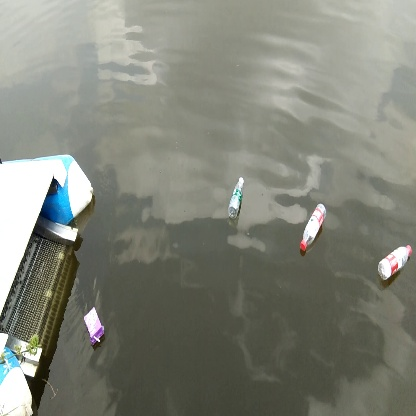bottle: (375, 239, 412, 282), (298, 202, 328, 253), (227, 175, 246, 222)
milk-box: (82, 305, 105, 348)
